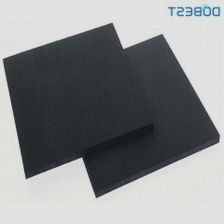foam_box: (45, 30, 224, 202), (0, 18, 159, 182)
